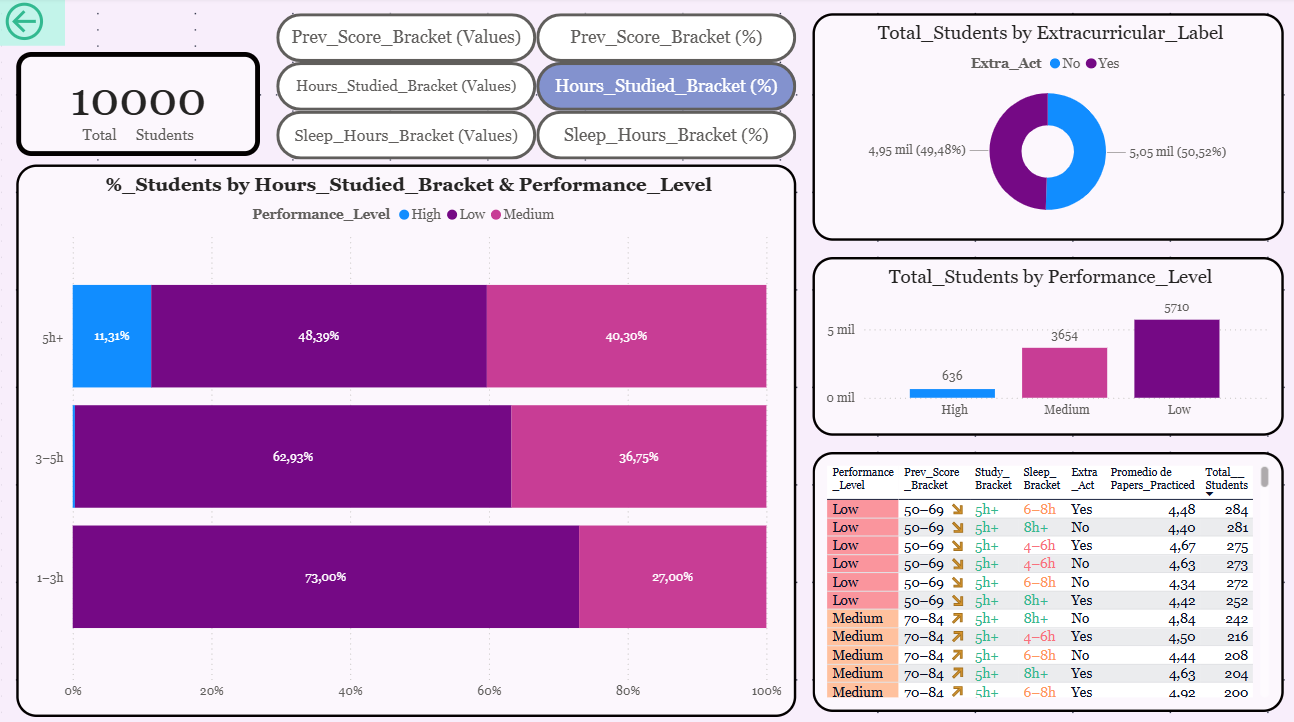

The page's visual inventory and layout, read from the dashboard file:
{"tool":"powerbi","page":{"name":"vw_base","canvas":[1280,720],"ordinal":1},"visuals":[{"type":"card","fields":{"Values":["Tabla_Medidas.Total_Students"]},"box":[16,54,240,102],"z":0},{"type":"group","id":"g1","title":"PSB","box":[16,16,768,693],"z":1000},{"type":"hundredPercentStackedBarChart","title":"%_Students by Hours_Studied_Bracket & Performance_Level","fields":{"Series":["vw_StudentPerformance_Base.Performance_Level"],"Y":["Tabla_Medidas.Total_Students","select"],"Category":["vw_StudentPerformance_Base.Study_Bracket"]},"box":[16,165,768,544],"z":1000,"group":"g2"},{"type":"actionButton","title":"botón PSB_V","box":[272,16,256,48],"z":2000,"group":"g1"},{"type":"group","id":"g2","title":"HSB","box":[16,64,768,645],"z":2000},{"type":"actionButton","title":"botón HSB_V","box":[272,64,256,48],"z":2000,"group":"g2"},{"type":"group","id":"g3","title":"SHB","box":[16,112,768,597],"z":3000},{"type":"actionButton","title":"botón PSB_%","box":[528,16,256,48],"z":4000,"group":"g1"},{"type":"donutChart","title":"Total_Students by Extracurricular_Label","fields":{"Category":["vw_StudentPerformance_Base.Extracurricular_Label"],"Y":["Tabla_Medidas.Total_Students"]},"box":[800,16,464,224],"z":4000},{"type":"actionButton","title":"botón HSB_%_on","box":[528,64,256,48],"z":5000,"group":"g2"},{"type":"clusteredColumnChart","title":"Total_Students by Performance_Level","fields":{"Category":["vw_StudentPerformance_Base.Performance_Level"],"Y":["Tabla_Medidas.Total_Students"]},"box":[800,256,464,176],"z":5000},{"type":"tableEx","fields":{"Values":["vw_StudentPerformance_Base.Performance_Level","vw_StudentPerformance_Base.Prev_Score_Bracket","vw_StudentPerformance_Base.Study_Bracket","vw_StudentPerformance_Base.Sleep_Bracket","vw_StudentPerformance_Base.Extracurricular_Label","Avg(vw_StudentPerformance_Base.Sample_Question_Papers_Practiced)","Tabla_Medidas.Total_Students"]},"box":[800,448,464,256],"z":6000},{"type":"actionButton","box":[0,0,64,48],"z":7000},{"type":"actionButton","title":"botón SHB_V","box":[272,112,256,48],"z":7500,"group":"g3"},{"type":"actionButton","title":"botón SHB_%","box":[528,112,256,48],"z":8250,"group":"g3"}]}

Visuals, with their boxes in screenshot pixels (x1, y1, x2, y2), scaled from the page's 1280x720 canvas onto the 1294x722 screenshot:
card - Tabla_Medidas.Total_Students: region(16, 54, 259, 156)
"PSB" group: region(16, 16, 793, 711)
"%_Students by Hours_Studied_Bracket & Performance_Level" hundredPercentStackedBarChart: region(16, 165, 793, 711)
"botón PSB_V" actionButton: region(275, 16, 534, 64)
"HSB" group: region(16, 64, 793, 711)
"botón HSB_V" actionButton: region(275, 64, 534, 112)
"SHB" group: region(16, 112, 793, 711)
"botón PSB_%" actionButton: region(534, 16, 793, 64)
"Total_Students by Extracurricular_Label" donutChart: region(809, 16, 1278, 241)
"botón HSB_%_on" actionButton: region(534, 64, 793, 112)
"Total_Students by Performance_Level" clusteredColumnChart: region(809, 257, 1278, 433)
tableEx - vw_StudentPerformance_Base.Performance_Level x vw_StudentPerformance_Base.Prev_Score_Bracket: region(809, 449, 1278, 706)
actionButton: region(0, 0, 65, 48)
"botón SHB_V" actionButton: region(275, 112, 534, 160)
"botón SHB_%" actionButton: region(534, 112, 793, 160)
